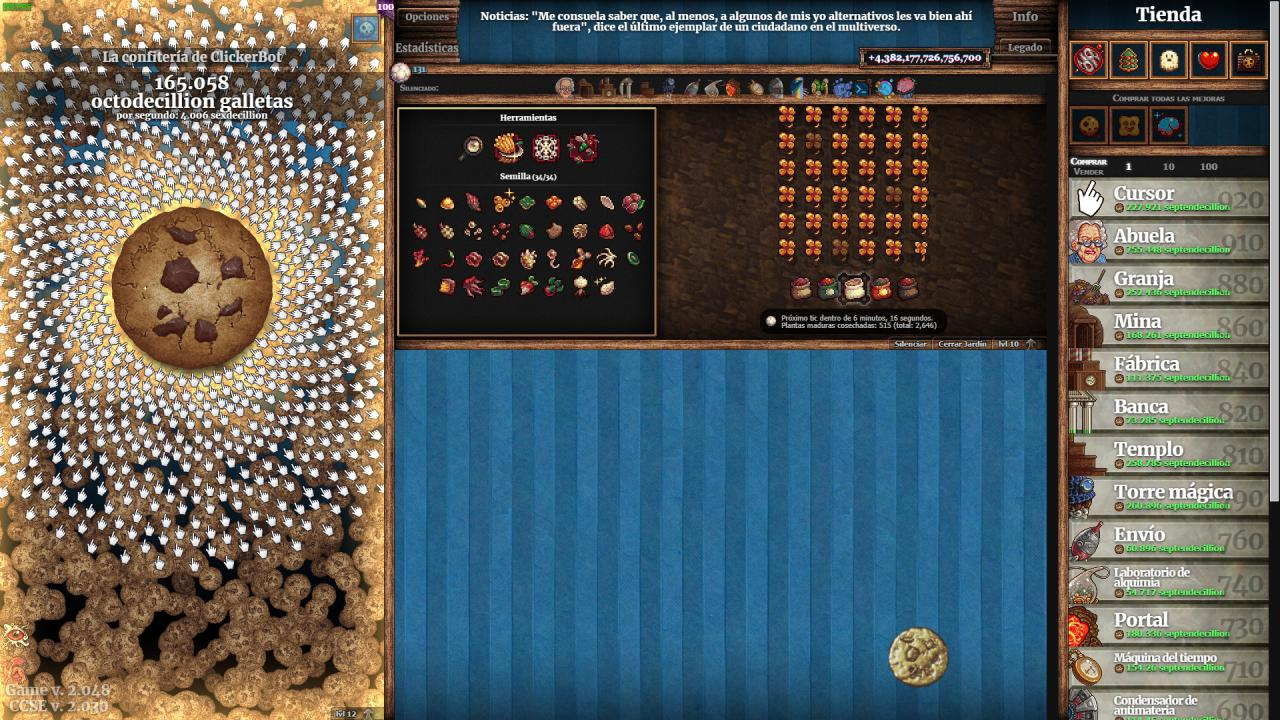GoldenCookie: (887, 624, 951, 688)
